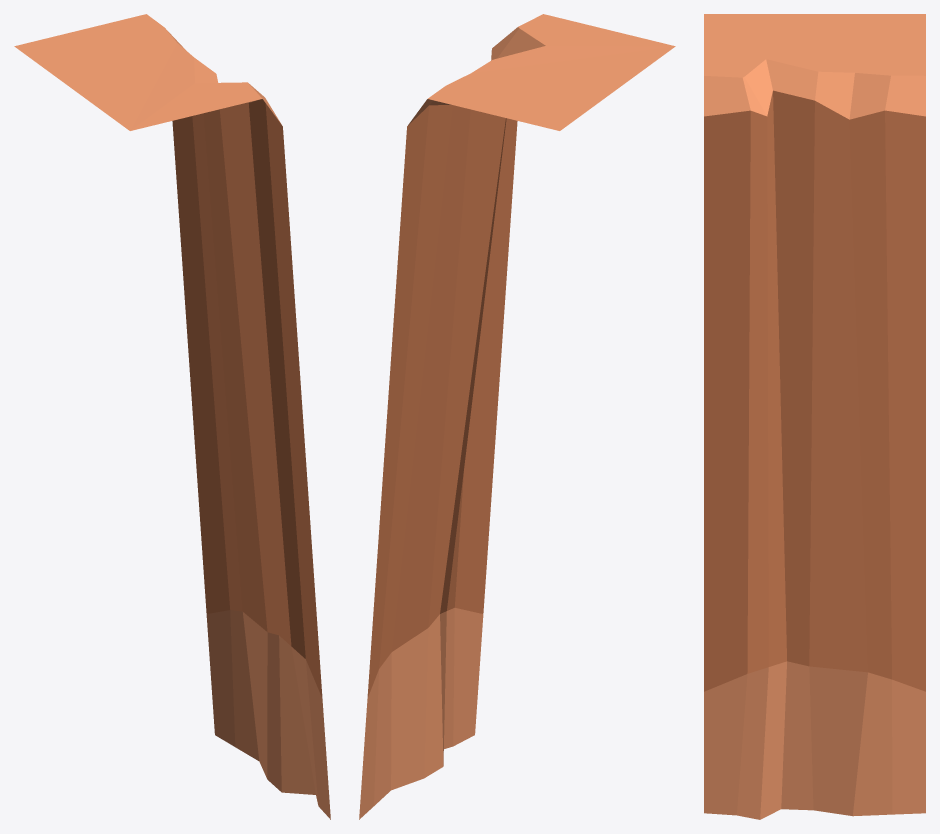
Rendered from Straight_Cliff_2_Collider.fbx.
3 renders of one model, left to right at view 1: azimuth 30°, elevation 25°; view 2: azimuth 150°, elevation 25°; view 3: azimuth 270°, elevation 25°, orthographic. The views are drawn at different scales.
Parts seen in each view (by area): view 1: Straight_Cliff_2_Collider; view 2: Straight_Cliff_2_Collider; view 3: Straight_Cliff_2_Collider.
Part boxes in pixels (x1,y1,x2,y2): Straight_Cliff_2_Collider: (14,14,330,819); Straight_Cliff_2_Collider: (359,14,675,819); Straight_Cliff_2_Collider: (704,14,925,819).
Bounding box in the file's own units: 2.14 × 7.03 × 2.
